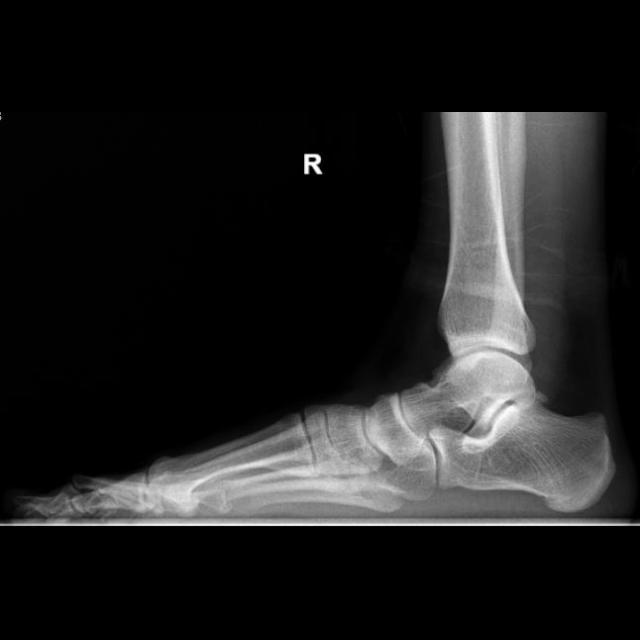a: (427, 398, 614, 513)
b: (364, 393, 425, 467)
c: (144, 417, 319, 501)
